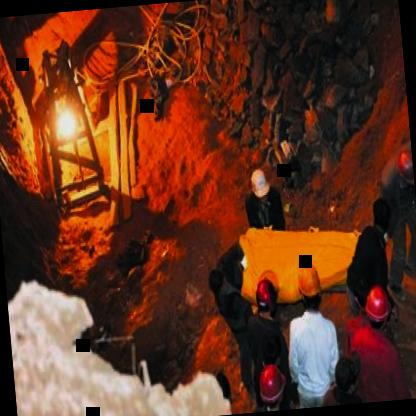head: (332, 349, 364, 398), (366, 194, 396, 242), (204, 266, 232, 298)
helmet: (291, 256, 324, 313), (250, 268, 284, 320), (362, 282, 394, 331), (257, 362, 288, 407), (249, 166, 272, 206), (394, 150, 415, 191)
